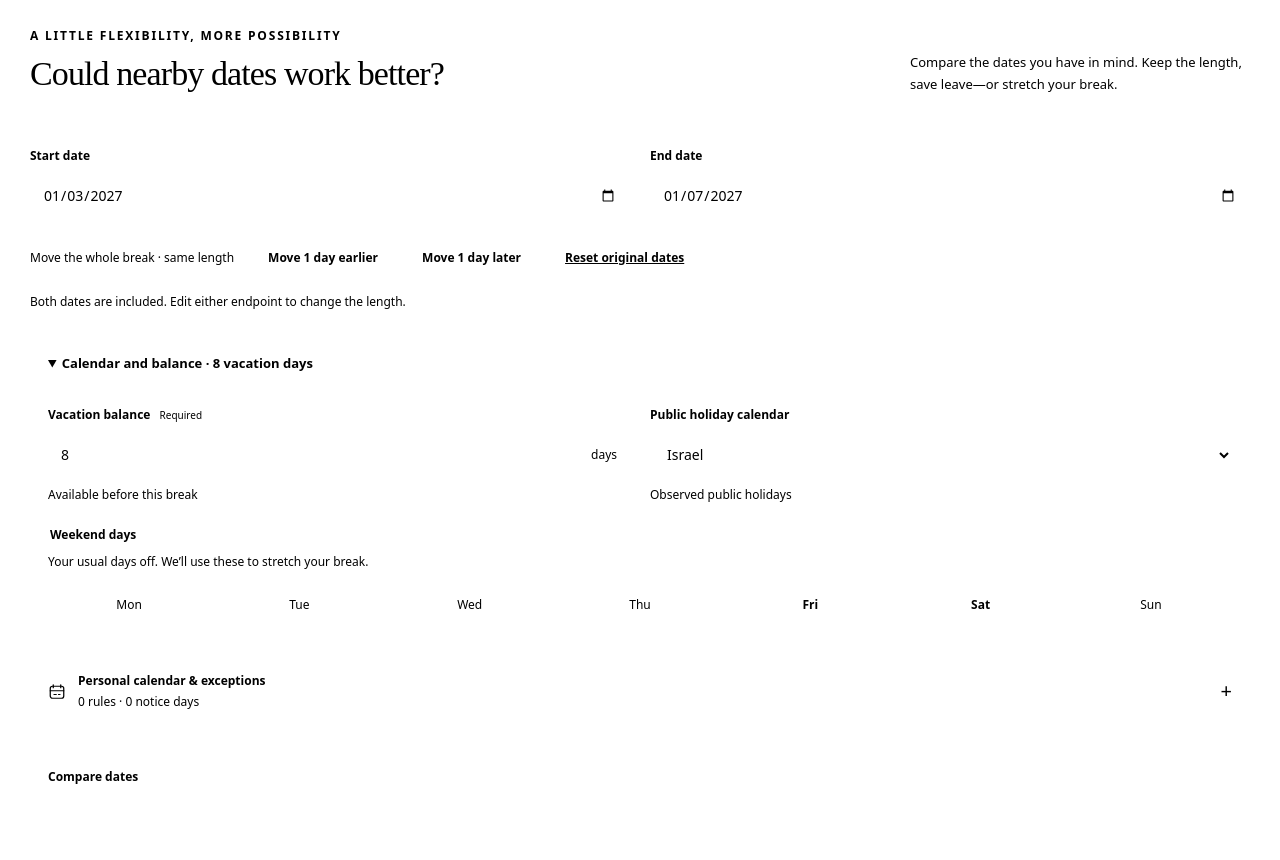
Test: shifting preserves length and hides stale suggestions until explicit update
(page scrolled)
Click the button "Compare dates" at (93, 777), box [30,754,156,800]
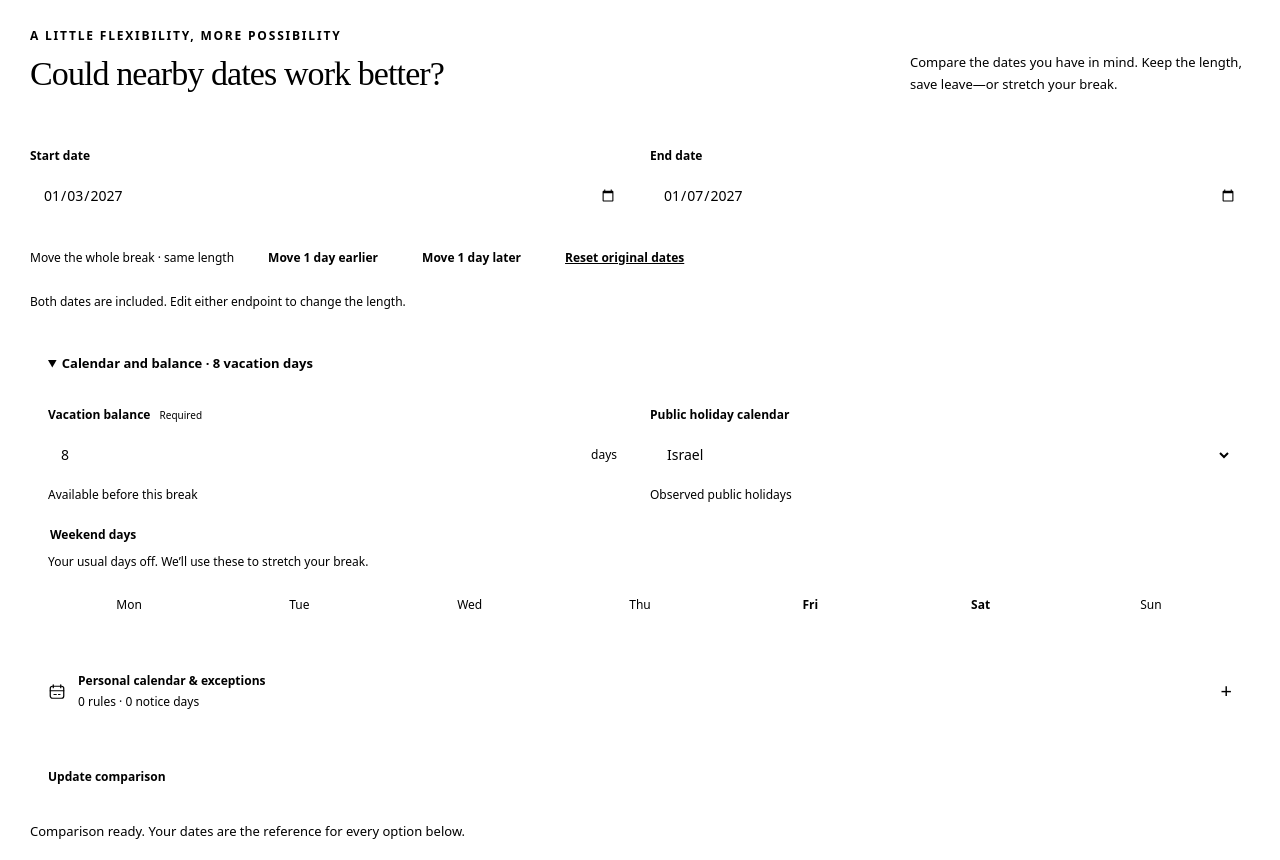
Click the button "Move 1 day later" at (472, 258), box [404,234,539,280]
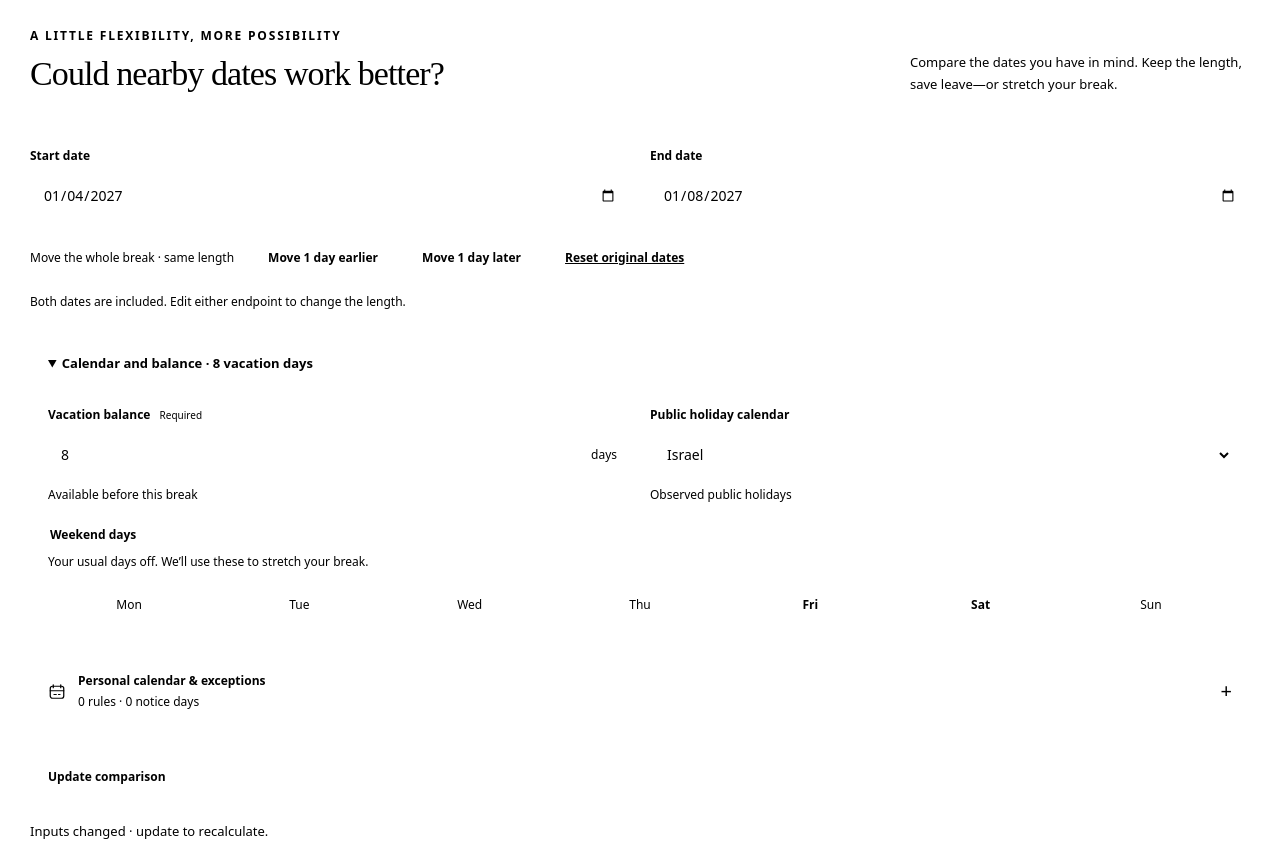
Now the date field labelled "Start date" holds "2027-01-04", box [30,172,630,218]
Now the date field labelled "End date" holds "2027-01-08"
Type "2027-01-10" into the date field labelled "End date" at (950, 196), box [650,172,1250,218]
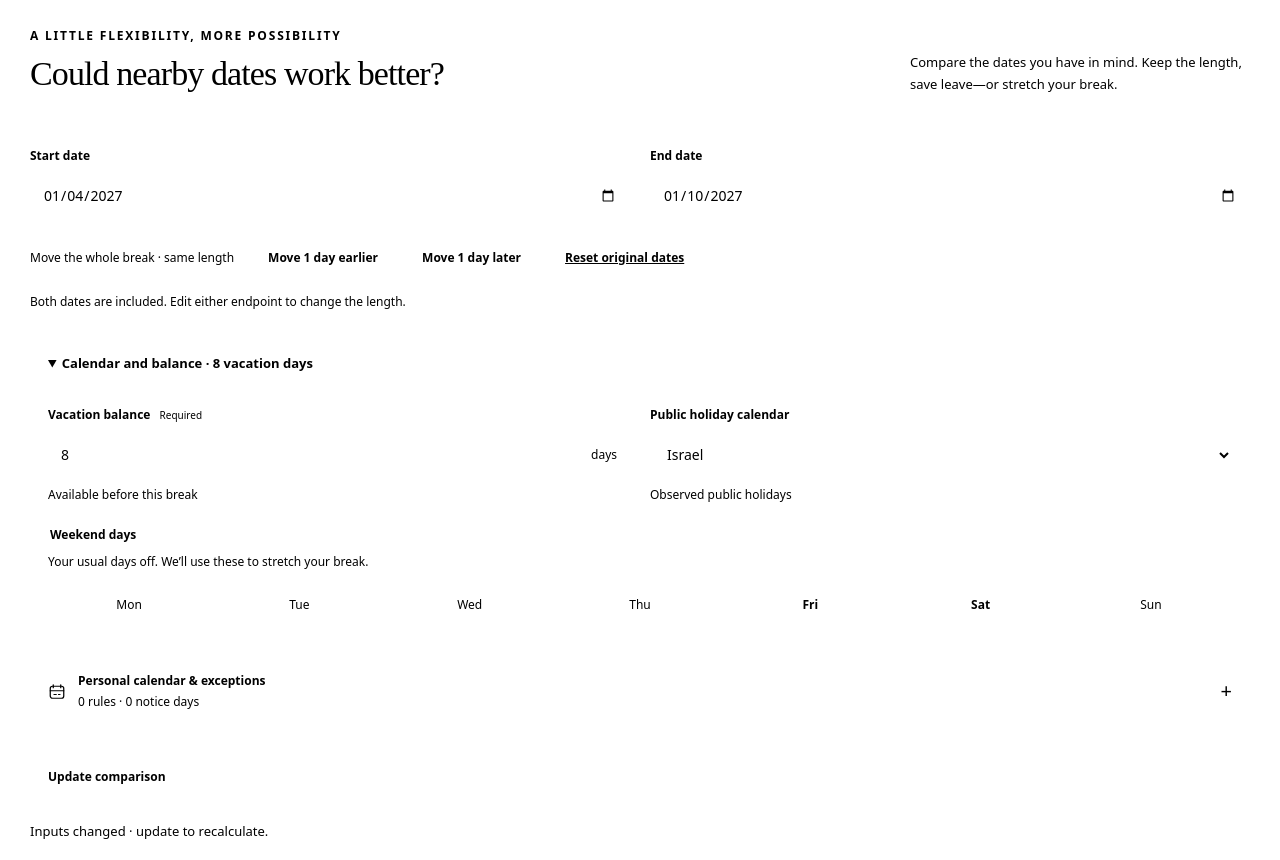
Now the date field labelled "Start date" holds "2027-01-04", box [30,172,630,218]
Click the button "Update comparison" at (107, 777), box [30,754,184,800]
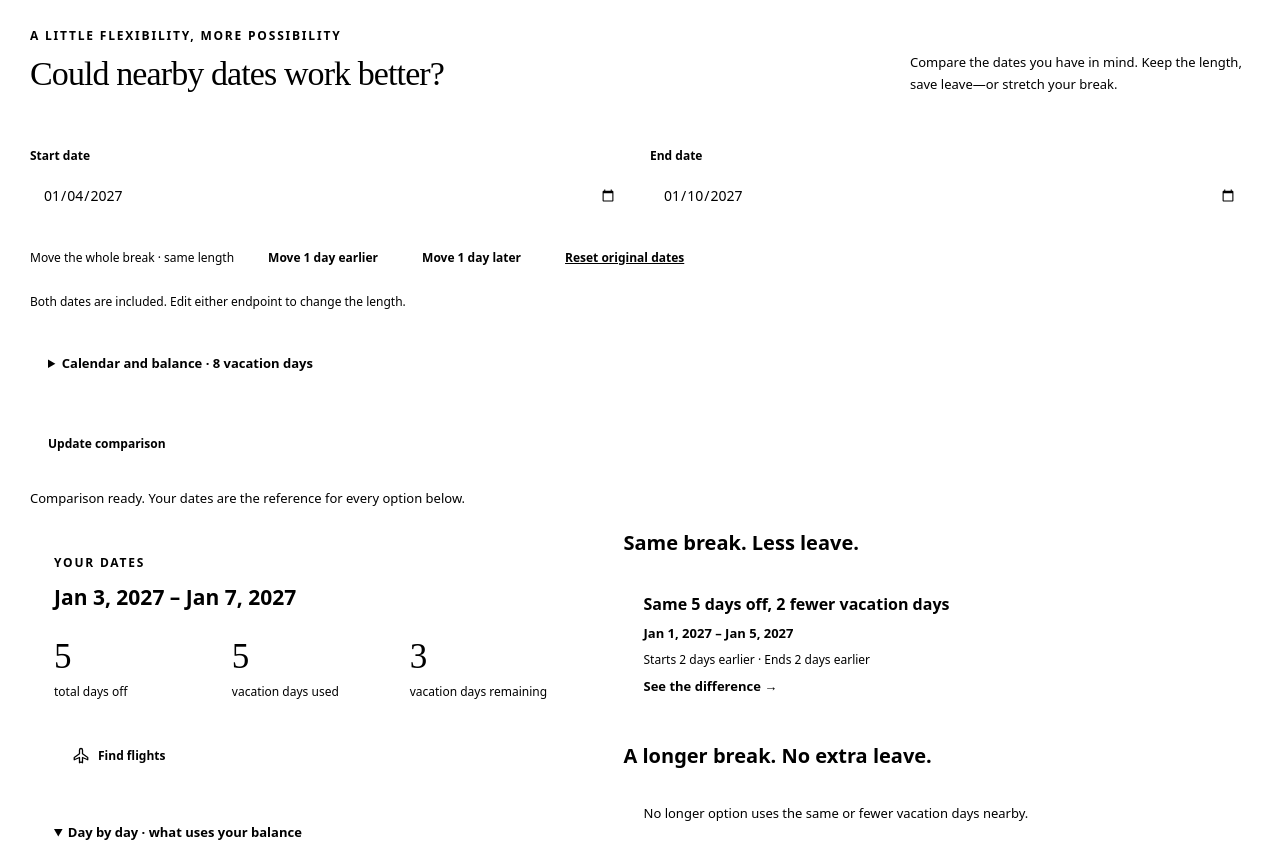
Now the button "Same 5 days off" is shown, box [624,572,1250,717]
Click the button "Reset original dates" at (625, 258), box [547,234,702,280]
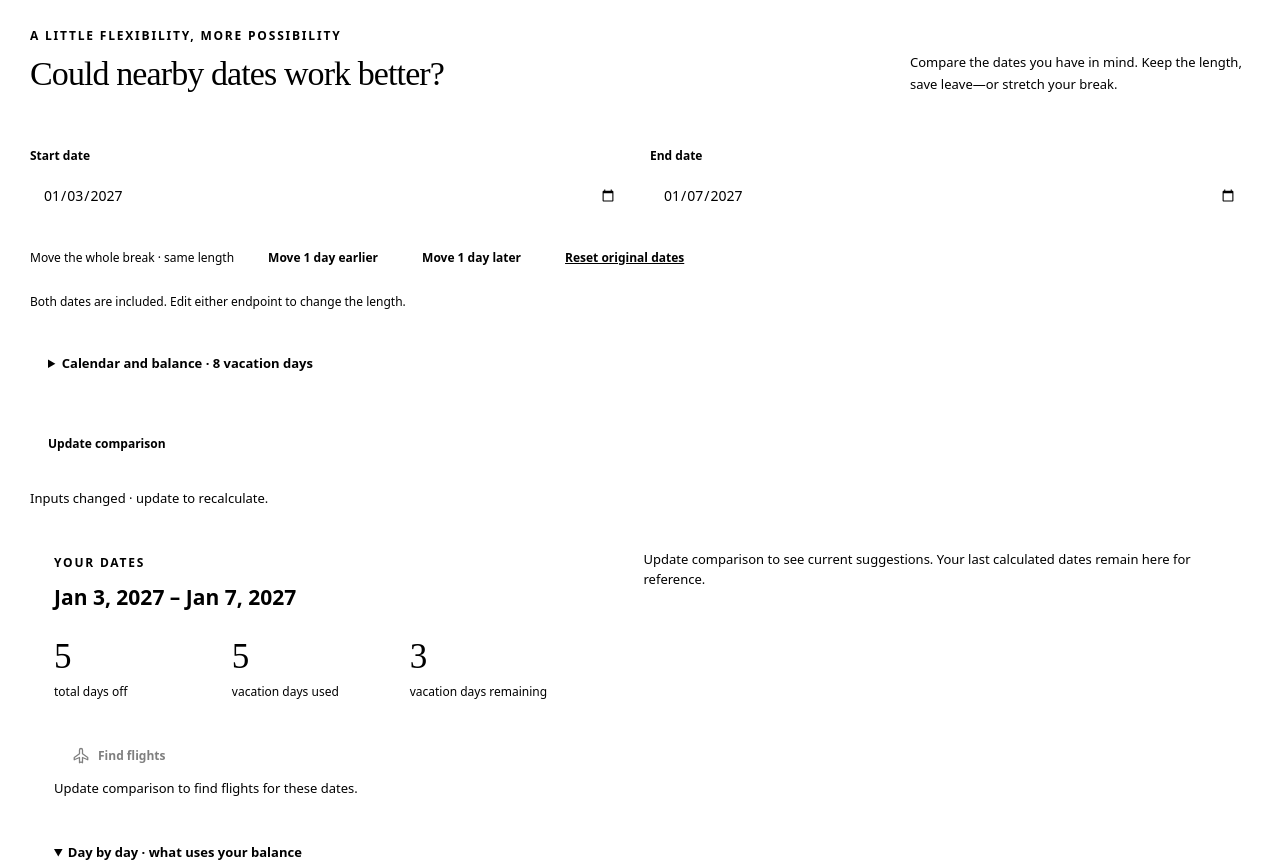
Now the date field labelled "Start date" holds "2027-01-03", box [30,172,630,218]
Now the date field labelled "End date" holds "2027-01-07", box [650,172,1250,218]
